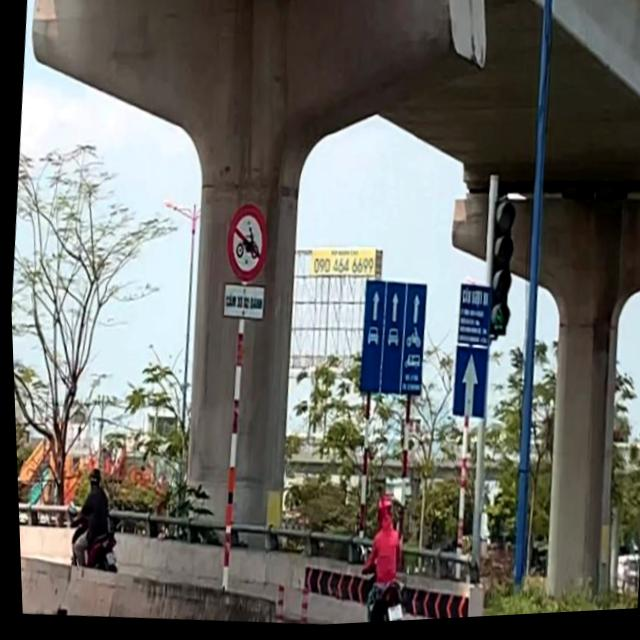Duong mot chieu: (447, 349, 487, 424)
